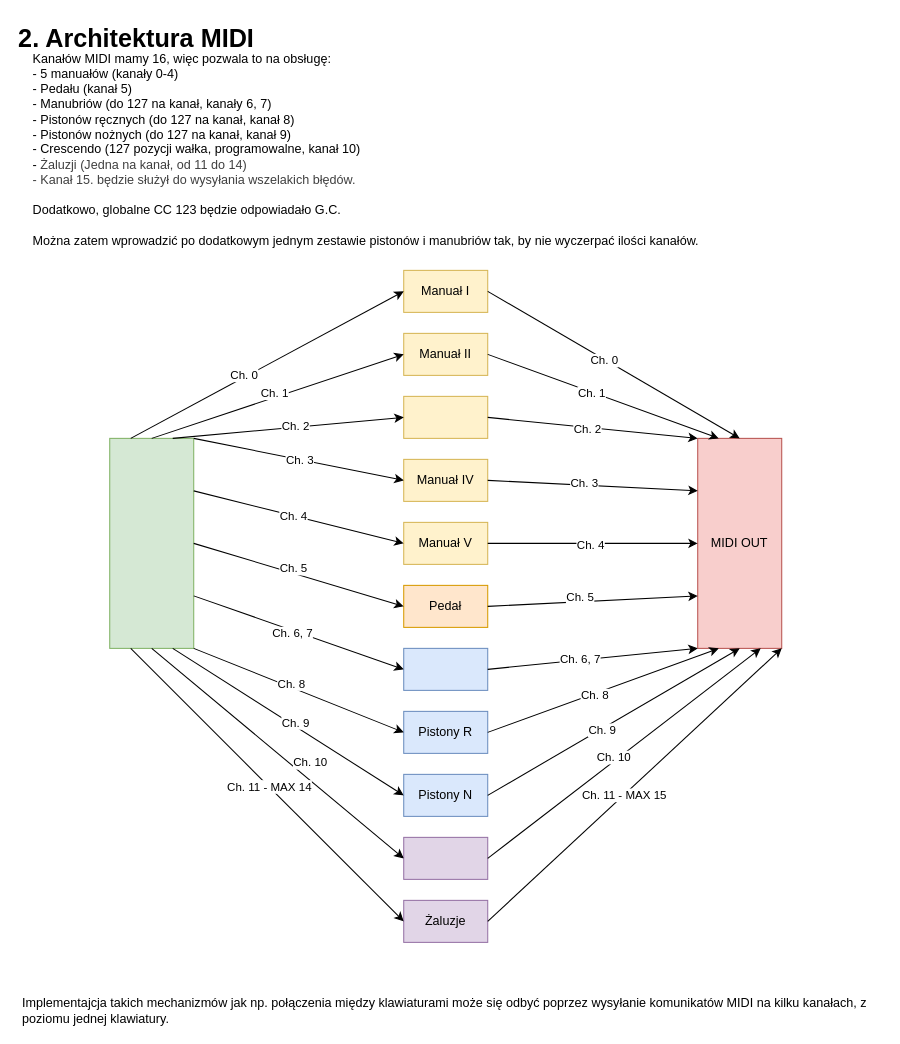
The diagram is 900 pixels wide and 1044 high, and some of its shapes have lost their labels. Here are the shapes that lost their labels. From the top down, the centre of each, then its label:
At (445,416): "Manuał III".
At (151,542): "MIDI IN".
At (445,668): "Manubria".
At (445,857): "Crescendo".
